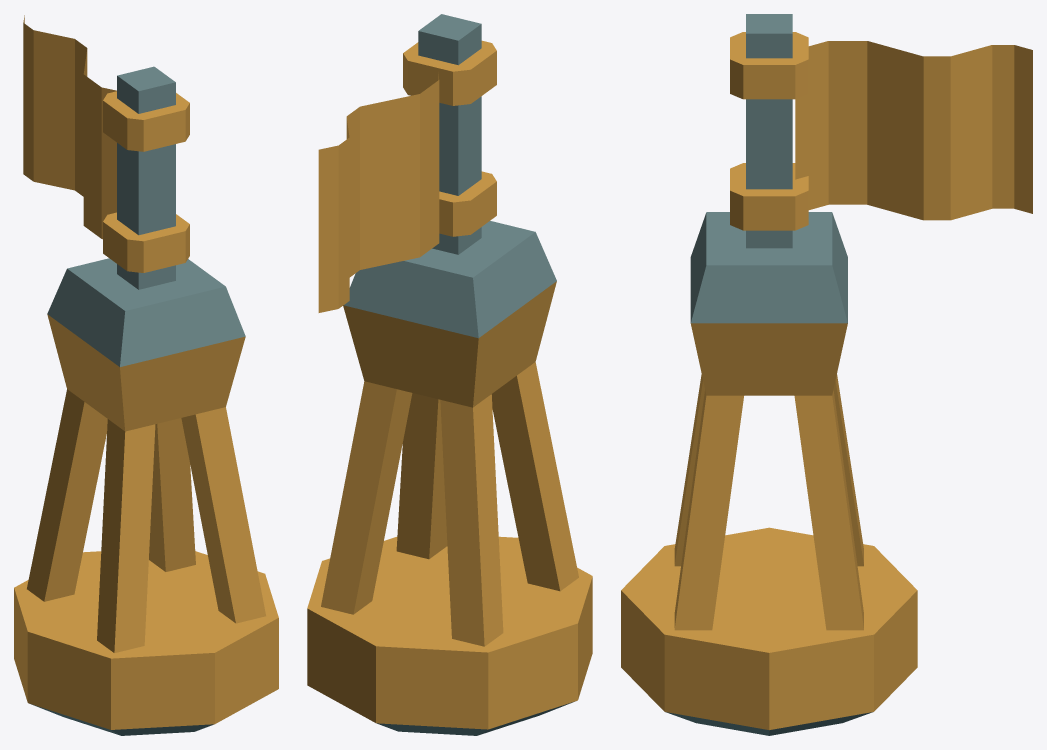
File: BoyaKenney.fbx
3 renders of one model, left to right at view 1: azimuth 30°, elevation 25°; view 2: azimuth 150°, elevation 25°; view 3: azimuth 270°, elevation 25°, orthographic. The views are drawn at different scales.
Parts seen in each view (by area): view 1: Surf_Signal, Surf_BandSteel.001, Surf_BandDark.001; view 2: Surf_Signal, Surf_BandSteel.001, Surf_BandDark.001; view 3: Surf_Signal, Surf_BandSteel.001, Surf_BandDark.001.
Part boxes in pixels (x1,y1,x2,y2): Surf_Signal: [14, 15, 278, 729]; Surf_BandSteel.001: [47, 66, 245, 366]; Surf_BandDark.001: [29, 703, 213, 735]; Surf_Signal: [307, 40, 592, 729]; Surf_BandSteel.001: [344, 14, 556, 338]; Surf_BandDark.001: [377, 701, 574, 735]; Surf_Signal: [621, 32, 1032, 730]; Surf_BandSteel.001: [690, 14, 847, 323]; Surf_BandDark.001: [665, 712, 872, 735].
Size of the model in its own units: 1.23 by 3.07 by 1.71.
